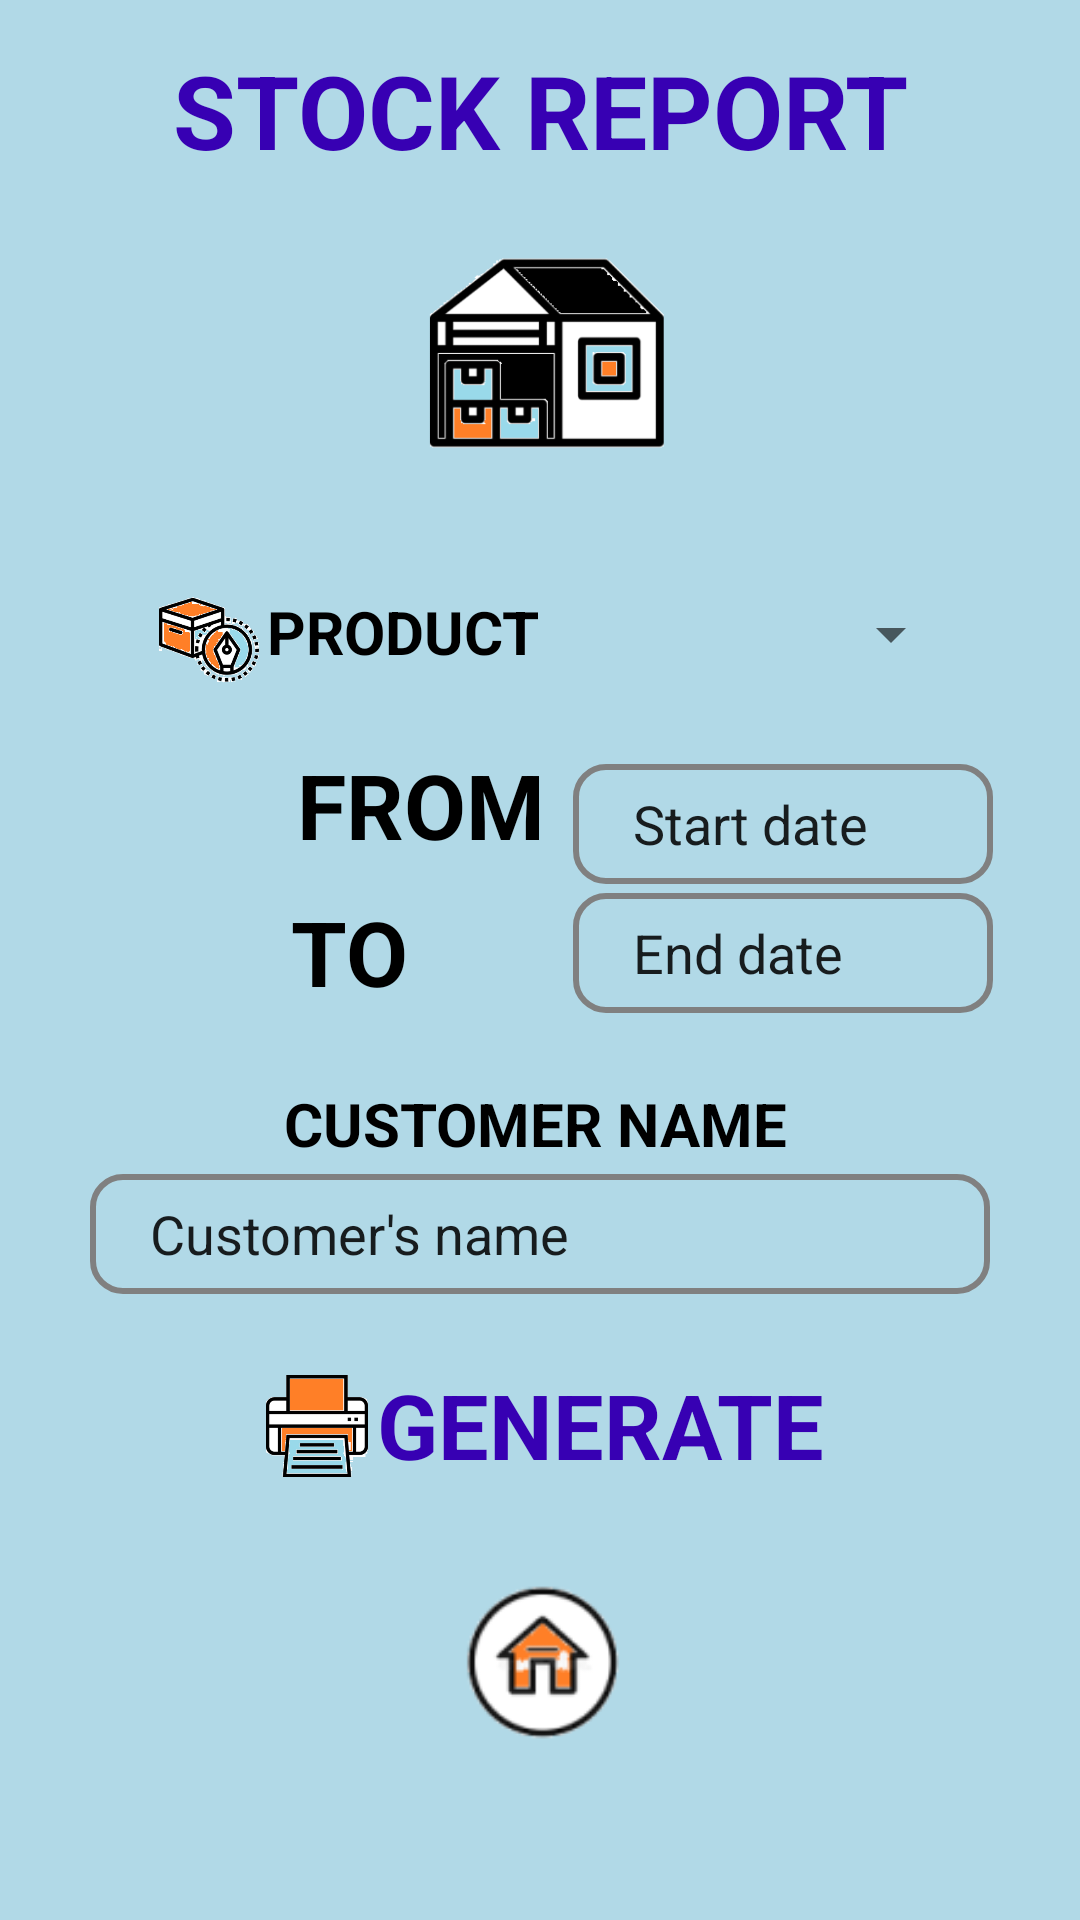

Named icons in this screenshot (1080 x 1920) and their bounding boxes, (x1, y1, x2, y2):
comodity: (159, 597, 259, 682)
